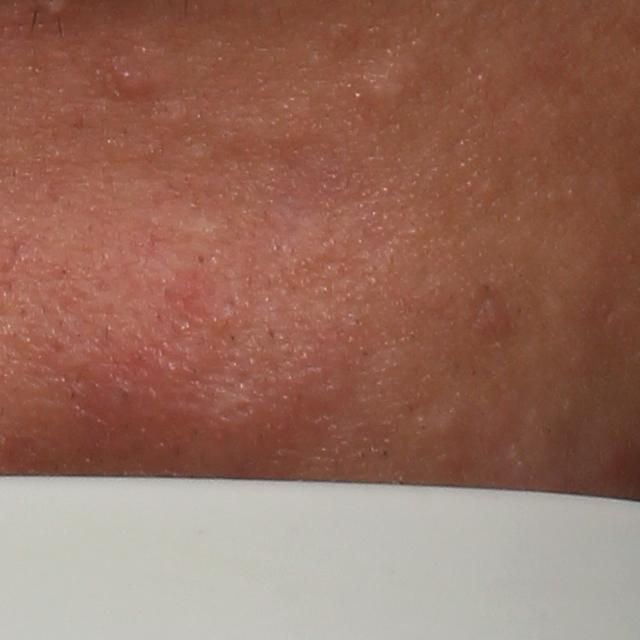hypertrophic_scar: (338, 47, 428, 126), (171, 218, 231, 245)
papule: (475, 296, 519, 341), (116, 65, 153, 96)
